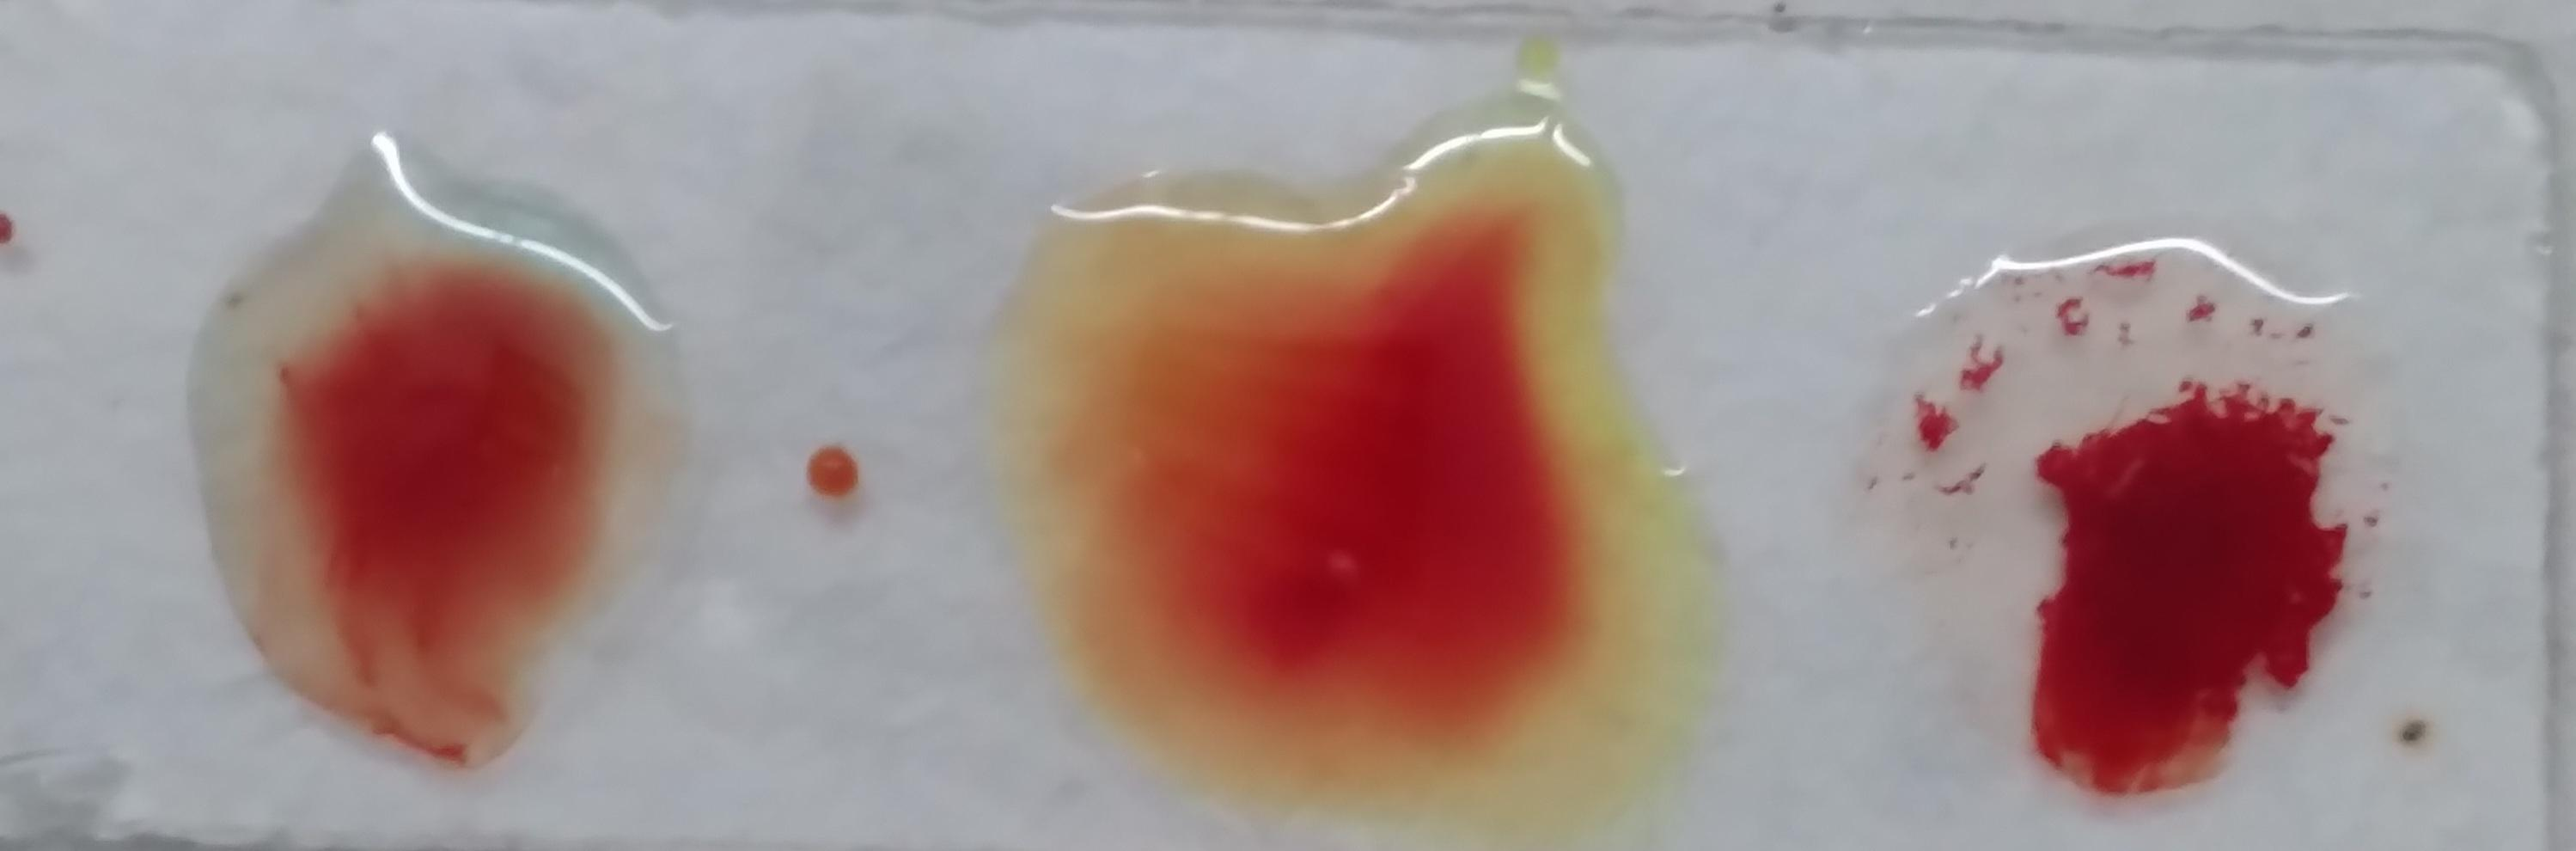D: (215, 41, 674, 632)
